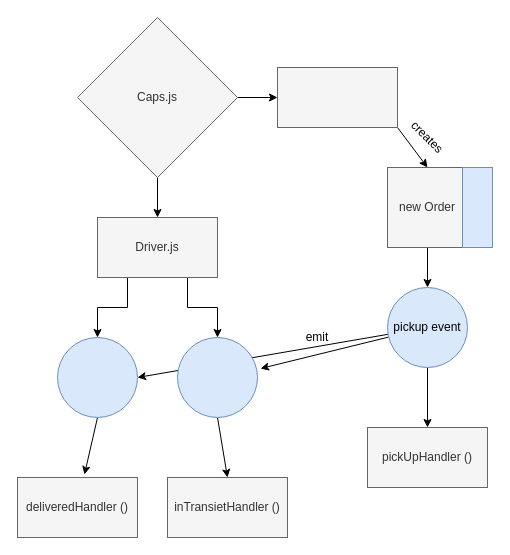
Image size: 510x555. Some labels were removed from this diagram. The centre of each missing label's shape, as x and y in pixels:
"deliver event" belongs at point (97, 377).
"every 5 seconds" belongs at point (477, 207).
"in transit event" belongs at point (217, 377).
"Vender.js" belongs at point (337, 97).
